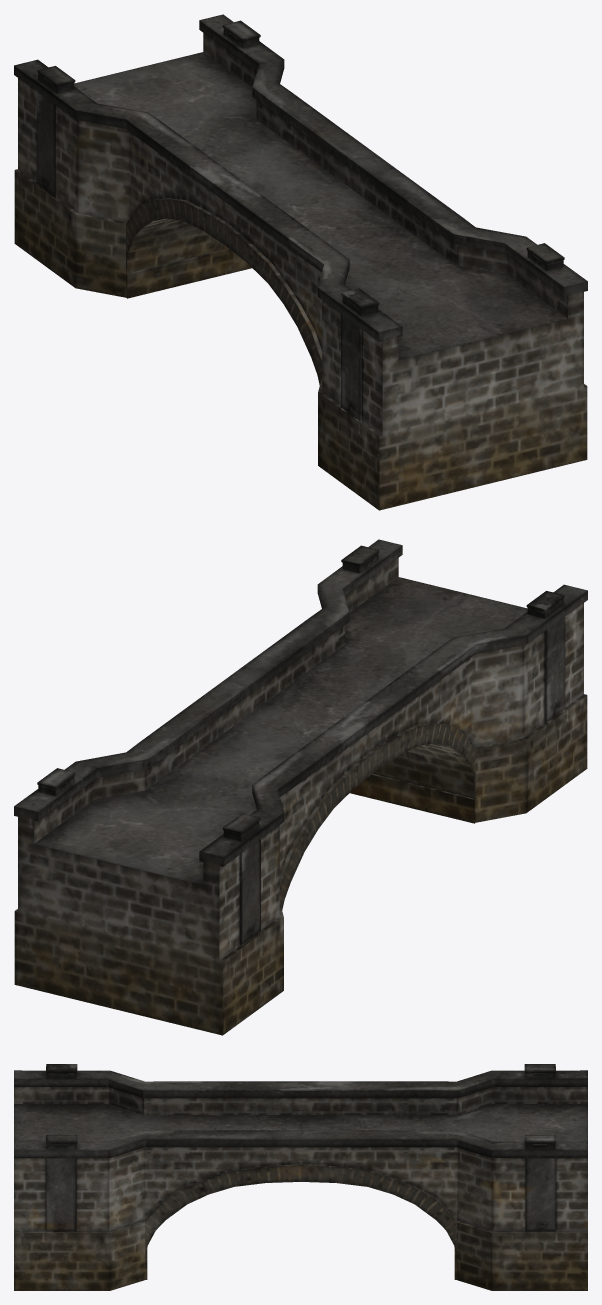
The model's file is Bridge-1.FBX.
3 renders of one model, top to bottom at view 1: azimuth 30°, elevation 25°; view 2: azimuth 150°, elevation 25°; view 3: azimuth 270°, elevation 25°, orthographic. The views are drawn at different scales.
Parts seen in each view (by area): view 1: Bridge-1; view 2: Bridge-1; view 3: Bridge-1.
Boxes of the visible parts, x1=… form: Bridge-1: x1=14, y1=14, x2=587, y2=510; Bridge-1: x1=14, y1=539, x2=587, y2=1035; Bridge-1: x1=14, y1=1064, x2=587, y2=1290.
Bounding box in the file's own units: 408 × 350 × 1230.
